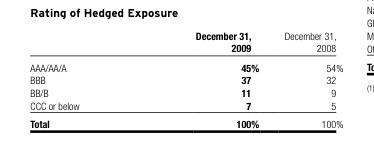table: (29, 29, 342, 129)
table column: (136, 29, 270, 129), (29, 29, 136, 129), (270, 29, 342, 129)
table column header: (29, 29, 342, 57)
table row: (29, 29, 342, 57), (29, 57, 342, 73), (29, 98, 342, 114), (29, 114, 342, 129), (29, 73, 342, 86), (29, 86, 342, 98)
